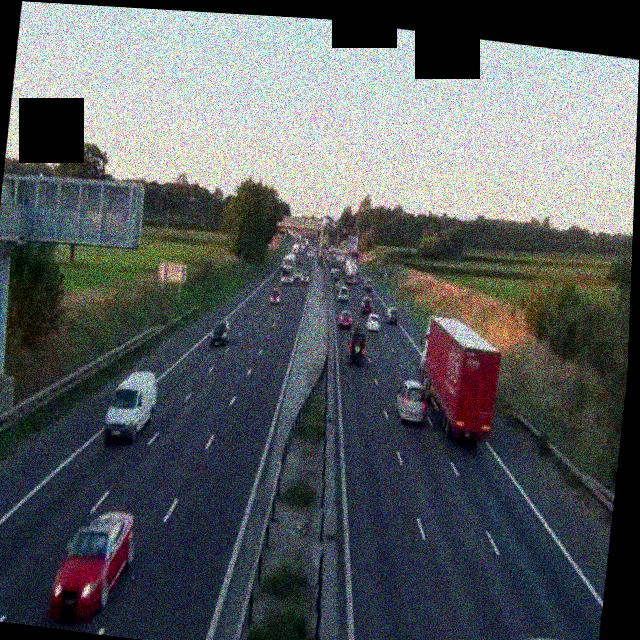car: (49, 503, 138, 625), (102, 364, 160, 446), (394, 378, 429, 424), (347, 318, 370, 365), (502, 632, 598, 640), (210, 317, 232, 347), (365, 311, 380, 333), (339, 308, 354, 329), (268, 287, 282, 306), (385, 305, 399, 323), (336, 285, 349, 302), (363, 278, 374, 293), (300, 269, 310, 283)
truck: (414, 312, 505, 442), (279, 248, 298, 280), (344, 252, 359, 280)
